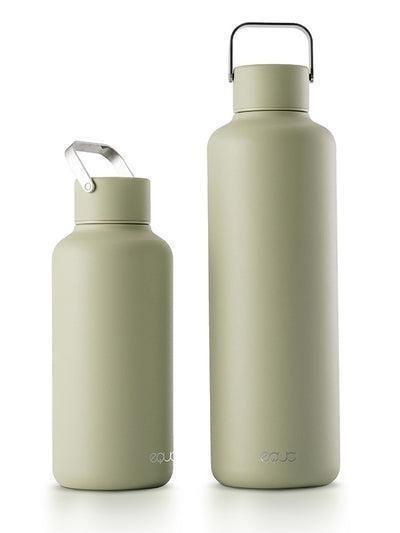gym bottle: (203, 20, 344, 493), (48, 139, 178, 493)
